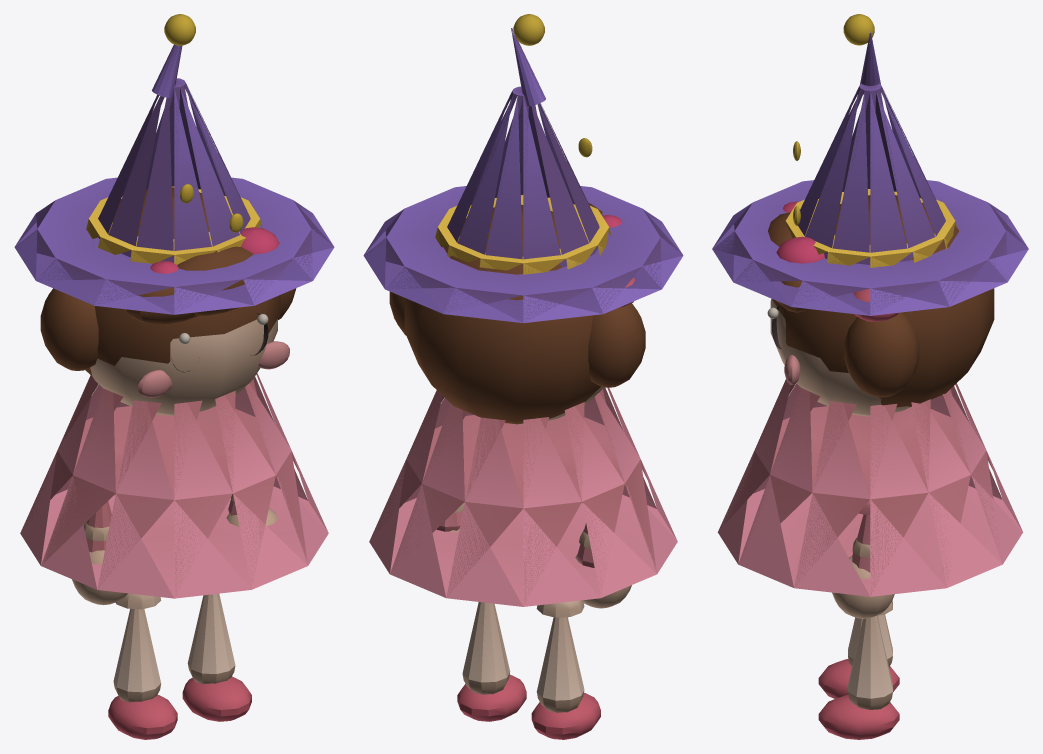
The model's file is girl-wizard-rest.glb.
3 views of the same model, side by side, from view 1: azimuth 30°, elevation 25°; view 2: azimuth 150°, elevation 25°; view 3: azimuth 270°, elevation 25° (orthographic).
Parts seen in each view (by area): view 1: player_girl-wizard:rest; view 2: player_girl-wizard:rest; view 3: player_girl-wizard:rest.
Part boxes in pixels (x1=…): player_girl-wizard:rest: x1=14, y1=14, x2=334, y2=739; player_girl-wizard:rest: x1=363, y1=14, x2=683, y2=739; player_girl-wizard:rest: x1=712, y1=14, x2=1028, y2=739.
Size of the model in its own units: 0.56 by 1.37 by 0.56.
